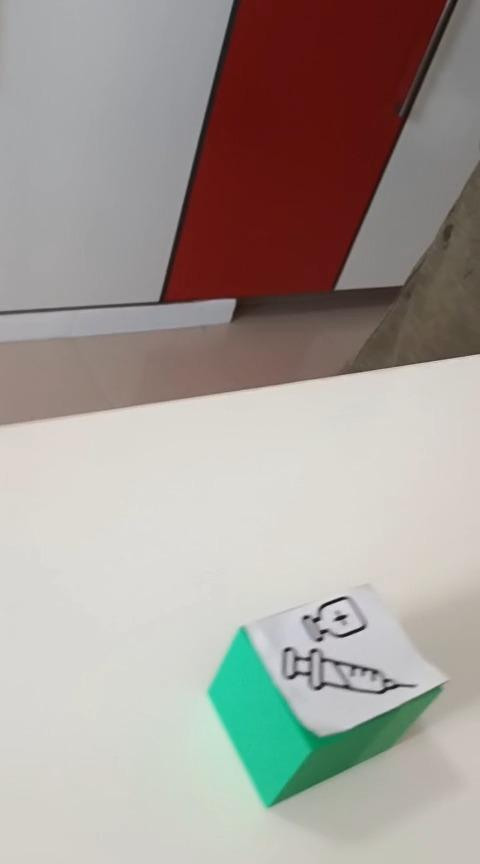antiseptic cream: (205, 581, 449, 808)
